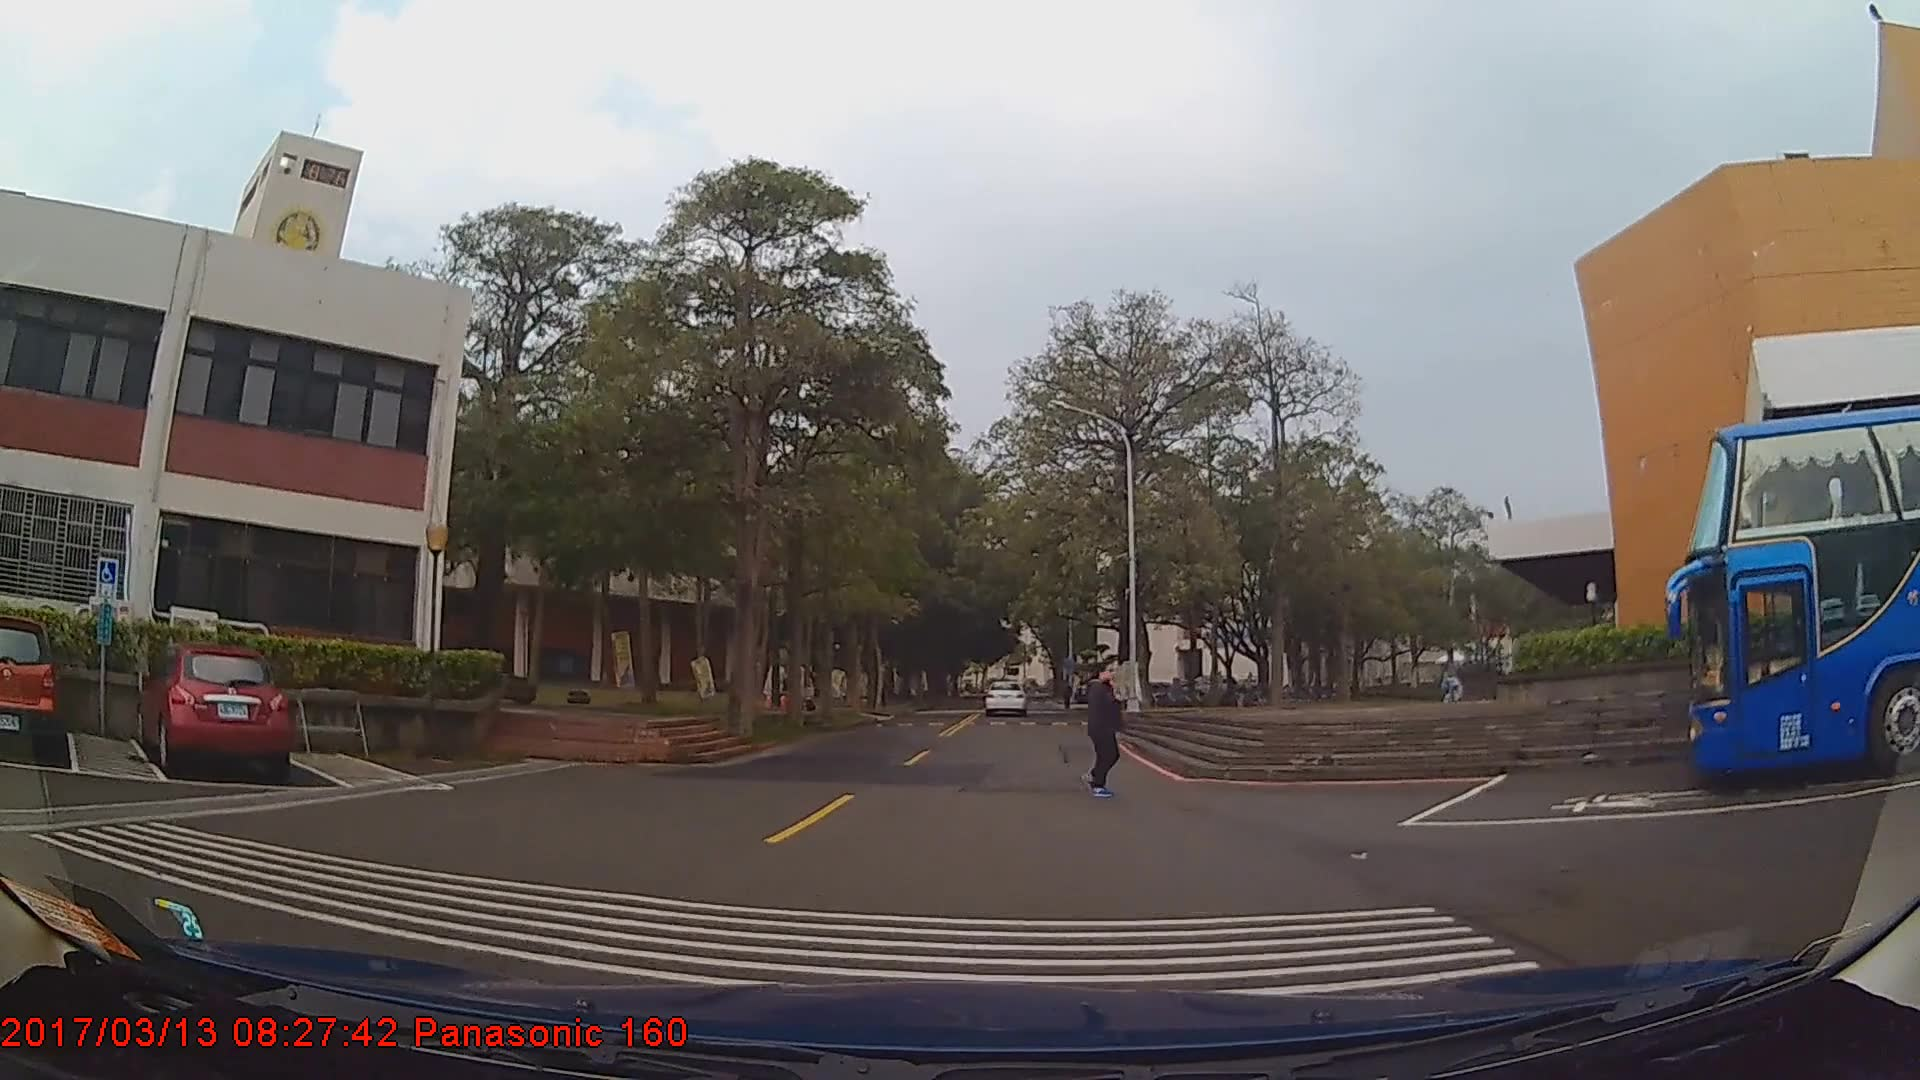pedestrian: (1081, 660, 1135, 801)
vehicle: (1682, 399, 1920, 785), (134, 647, 293, 785), (0, 613, 61, 757), (983, 678, 1024, 717)
